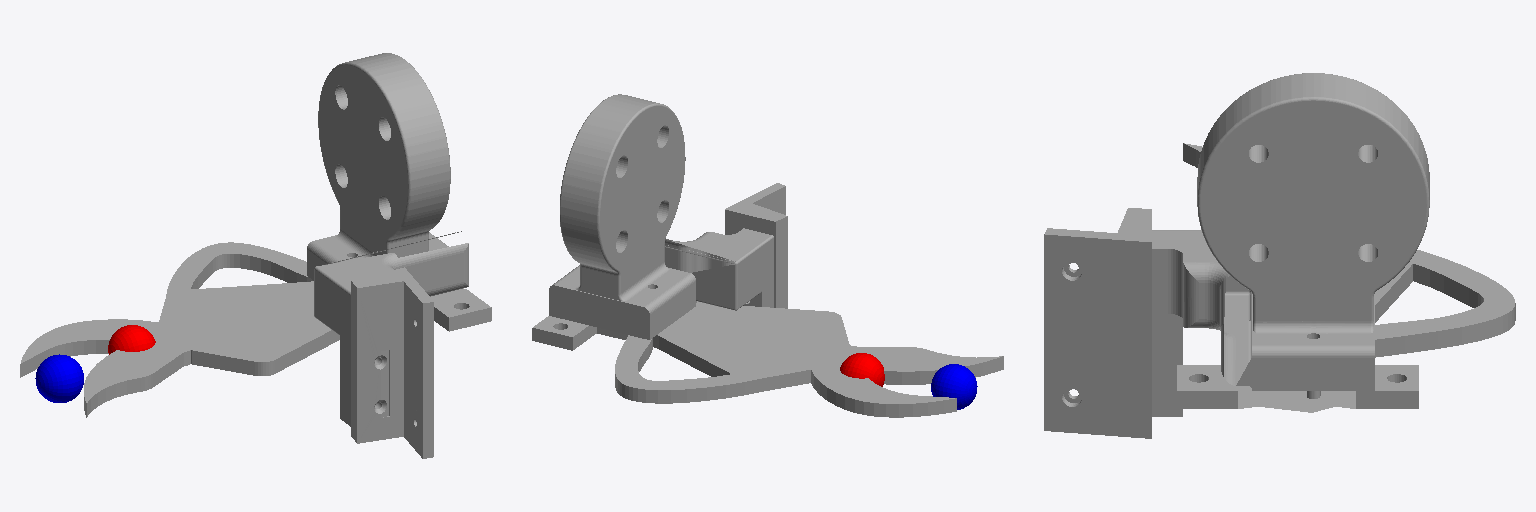
URDF robot description (panda):
<?xml version="1.0" encoding="utf-8"?>
<!-- =================================================================================== -->
<!-- |    This document was autogenerated by xacro from ../../../franka_panda_description/robots/panda_arm.urdf.xacro | -->
<!-- |    EDITING THIS FILE BY HAND IS NOT RECOMMENDED                                 | -->
<!-- =================================================================================== -->
<robot name="panda">
  <link name="world"/>
  <joint name="world_joint" type="fixed">
    <parent link="world"/>
    <child link="mount_base"/>
    <origin rpy="0.0 0.0 1.5708" xyz="0.0 0.0 0.75711"/>
  </joint>
   <link name="mount_base">
      <inertial>
        <origin rpy="0 0 0" xyz="1.0E-08 1.0E-08 1.0E-08"/>
        <mass value="1.0E-08"/>
        <inertia ixx="1.0E-08" ixy="1.0E-08" ixz="1.0E-08" iyy="1.0E-08" iyz="1.0E-08" izz="1.0E-08"/>
      </inertial>
    </link>
  <joint name="y_gantry" type="fixed">
    <parent link="mount_base"/>
    <child link="mount"/>
    <origin rpy="0.0 0.0 0.0" xyz="0.0 0.0 0.0"/>
    <axis xyz="0 1 0"/>
    <limit effort="330.0" lower="-0.25" upper="0.25" velocity="0.2"/>
    <dynamics damping="0.0" friction="0.0"/>
  </joint>
  <link name="mount">
    <visual>
	  <origin rpy="0.0 0.0 0.0" xyz="0 0.0 0.0"/>
      <geometry>
        <mesh filename="meshes/visual/robot_cart.obj"/>
      </geometry>
      <material name="LightGrey">
        <color rgba="0.7 0.7 0.7 1.0"/>
      </material>
      <material name="LightGrey">
        <color rgba="0.7 0.7 0.7 1.0"/>
      </material>
    </visual>
    <collision>
	  <origin rpy="0.0 0.0 0.0" xyz="0 0.0 -0.3786"/>
      <geometry>
        <box size="0.5 0.5 0.75711"/>
      </geometry>
    </collision>
    <inertial>
      <mass value="4.0"/>
      <origin rpy="0 0 0" xyz="0.0 0.0 0.0"/>
      <inertia ixx="0.006106" ixy="0.0" ixz="0.0" iyy="0.006106" iyz="0.0" izz="0.01125"/>
    </inertial>
  </link>
  <joint name="mount_base_joint" type="fixed">
    <parent link="mount"/>
    <child link="panda_link0"/>
    <origin rpy="0.0 0.0 -1.5708" xyz="0.0 0.0 0.0"/>
    <axis xyz="0 0 1"/>
  </joint>
  <link name="panda_link0">
    <visual>
      <geometry>
        <mesh filename="meshes/visual/link0.dae"/>
      </geometry>
      <material name="panda_gray"/>
    </visual>
    <collision>
      <geometry>
        <mesh filename="meshes/collision/link0.stl"/>
      </geometry>
    </collision>
  </link>
  <link name="panda_link1">
    <visual>
      <geometry>
        <mesh filename="meshes/visual/link1.dae"/>
      </geometry>
    </visual>
    <collision>
      <geometry>
        <mesh filename="meshes/collision/link1.stl"/>
      </geometry>
    </collision>
    <inertial>
      <origin rpy="0 0 0" xyz="3.875e-03 2.081e-03 -0.1750"/>
      <mass value="4.970684"/>
      <inertia ixx="7.0337e-01" ixy="-1.3900e-04" ixz="6.7720e-03" iyy="7.0661e-01" iyz="1.9169e-02" izz="9.1170e-03"/>
    </inertial>
  </link>
  <joint name="panda_joint1" type="revolute">
    <safety_controller k_position="100.0" k_velocity="40.0" soft_lower_limit="-2.8973" soft_upper_limit="2.8973"/>
    <origin rpy="0 0 0" xyz="0 0 0.333"/>
    <parent link="panda_link0"/>
    <child link="panda_link1"/>
    <axis xyz="0 0 1"/>
    <limit effort="87" lower="-2.8973" upper="2.8973" velocity="2.1750"/>
    <dynamics damping="10.0" friction="5.0"/>
  </joint>
  <link name="panda_link2">
    <visual>
      <geometry>
        <mesh filename="meshes/visual/link2.dae"/>
      </geometry>
    </visual>
    <collision>
      <geometry>
        <mesh filename="meshes/collision/link2.stl"/>
      </geometry>
    </collision>
    <inertial>
      <origin rpy="0 0 0" xyz="-3.141e-03 -2.872e-02 3.495e-03"/>
      <mass value="0.646926"/>
      <inertia ixx="7.9620e-03" ixy="-3.9250e-03" ixz="1.0254e-02" iyy="2.8110e-02" iyz="7.0400e-04" izz="2.5995e-02"/>
    </inertial>
  </link>
  <joint name="panda_joint2" type="revolute">
    <safety_controller k_position="100.0" k_velocity="40.0" soft_lower_limit="-1.7628" soft_upper_limit="1.7628"/>
    <origin rpy="-1.57079632679 0 0" xyz="0 0 0"/>
    <parent link="panda_link1"/>
    <child link="panda_link2"/>
    <axis xyz="0 0 1"/>
    <limit effort="87" lower="-1.7628" upper="1.7628" velocity="2.1750"/>
    <dynamics damping="5.0" friction="2.0"/>
  </joint>
  <link name="panda_link3">
    <visual>
      <geometry>
        <mesh filename="meshes/visual/link3.dae"/>
      </geometry>
    </visual>
    <collision>
      <geometry>
        <mesh filename="meshes/collision/link3.stl"/>
      </geometry>
    </collision>
    <inertial>
      <origin rpy="0 0 0" xyz="2.7518e-02 3.9252e-02 -6.6502e-02"/>
      <mass value="3.228604"/>
      <inertia ixx="3.7242e-02" ixy="-4.7610e-03" ixz="-1.1396e-02" iyy="3.6155e-02" iyz="-1.2805e-02" izz="1.0830e-02"/>
    </inertial>
  </link>
  <joint name="panda_joint3" type="revolute">
    <safety_controller k_position="100.0" k_velocity="40.0" soft_lower_limit="-2.8973" soft_upper_limit="2.8973"/>
    <origin rpy="1.57079632679 0 0" xyz="0 -0.316 0"/>
    <parent link="panda_link2"/>
    <child link="panda_link3"/>
    <axis xyz="0 0 1"/>
    <limit effort="87" lower="-2.8973" upper="2.8973" velocity="2.1750"/>
    <dynamics damping="5.0" friction="2.0"/>
  </joint>
  <link name="panda_link4">
    <visual>
      <geometry>
        <mesh filename="meshes/visual/link4.dae"/>
      </geometry>
    </visual>
    <collision>
      <geometry>
        <mesh filename="meshes/collision/link4.stl"/>
      </geometry>
    </collision>
    <inertial>
      <origin rpy="0 0 0" xyz="-5.317e-02 1.04419e-01 2.7454e-02"/>
      <mass value="3.587895"/>
      <inertia ixx="2.5853e-02" ixy="7.7960e-03" ixz="-1.3320e-03" iyy="1.9552e-02" iyz="8.6410e-03" izz="2.8323e-02"/>
    </inertial>
  </link>
  <joint name="panda_joint4" type="revolute">
    <safety_controller k_position="100.0" k_velocity="40.0" soft_lower_limit="-3.0718" soft_upper_limit="-0.0698"/>
    <origin rpy="1.57079632679 0 0" xyz="0.0825 0 0"/>
    <parent link="panda_link3"/>
    <child link="panda_link4"/>
    <axis xyz="0 0 1"/>
    <limit effort="87" lower="-3.0718" upper="-0.0698" velocity="2.1750"/>
    <dynamics damping="1.0" friction="0.5"/>
  </joint>
  <link name="panda_link5">
    <visual>
      <geometry>
        <mesh filename="meshes/visual/link5.dae"/>
      </geometry>
    </visual>
    <collision>
      <geometry>
        <mesh filename="meshes/collision/link5.stl"/>
      </geometry>
    </collision>
    <inertial>
      <origin rpy="0 0 0" xyz="-1.1953e-02 4.1065e-02 -3.8437e-02"/>
      <mass value="1.225946"/>
      <inertia ixx="3.5549e-02" ixy="-2.1170e-03" ixz="-4.0370e-03" iyy="2.9474e-02" iyz="2.2900e-04" izz="8.6270e-03"/>
    </inertial>
  </link>
  <joint name="panda_joint5" type="revolute">
    <safety_controller k_position="100.0" k_velocity="40.0" soft_lower_limit="-2.8973" soft_upper_limit="2.8973"/>
    <origin rpy="-1.57079632679 0 0" xyz="-0.0825 0.384 0"/>
    <parent link="panda_link4"/>
    <child link="panda_link5"/>
    <axis xyz="0 0 1"/>
    <limit effort="12" lower="-2.8973" upper="2.8973" velocity="2.6100"/>
    <dynamics damping="2.0" friction="1.0"/>
  </joint>
  <link name="panda_link6">
    <visual>
      <geometry>
        <mesh filename="meshes/visual/link6.dae"/>
      </geometry>
    </visual>
    <collision>
      <geometry>
        <mesh filename="meshes/collision/link6.stl"/>
      </geometry>
    </collision>
    <inertial>
      <origin rpy="0 0 0" xyz="6.0149e-02 -1.4117e-02 -1.0517e-02"/>
      <mass value="1.666555"/>
      <inertia ixx="1.9640e-03" ixy="1.0900e-04" ixz="-1.1580e-03" iyy="4.3540e-03" iyz="3.4100e-04" izz="5.4330e-03"/>
    </inertial>
  </link>
  <joint name="panda_joint6" type="revolute">
    <safety_controller k_position="100.0" k_velocity="40.0" soft_lower_limit="-0.0175" soft_upper_limit="3.7525"/>
    <origin rpy="1.57079632679 0 0" xyz="0 0 0"/>
    <parent link="panda_link5"/>
    <child link="panda_link6"/>
    <axis xyz="0 0 1"/>
    <limit effort="12" lower="-0.0175" upper="3.7525" velocity="2.6100"/>
    <dynamics damping="1.0" friction="0.5"/>
  </joint>
  <link name="panda_link7">
    <visual>
      <geometry>
        <mesh filename="meshes/visual/link7.dae"/>
      </geometry>
      <material name="panda_gray"/>
    </visual>
    <collision>
      <geometry>
        <mesh filename="meshes/collision/link7.stl"/>
      </geometry>
    </collision>
    <inertial>
      <origin rpy="0 0 0" xyz="1.0517e-02 -4.252e-03 6.1597e-02"/>
      <mass value="7.35522e-01"/>
      <inertia ixx="1.2516e-02" ixy="-4.2800e-04" ixz="-1.1960e-03" iyy="1.0027e-02" iyz="-7.4100e-04" izz="4.8150e-03"/>
    </inertial>
  </link>
  <joint name="panda_joint7" type="revolute">
    <safety_controller k_position="100.0" k_velocity="40.0" soft_lower_limit="-2.8973" soft_upper_limit="2.8973"/>
    <origin rpy="1.57079632679 0 0" xyz="0.088 0 0"/>
    <parent link="panda_link6"/>
    <child link="panda_link7"/>
    <axis xyz="0 0 1"/>
    <limit effort="12" lower="-2.8973" upper="2.8973" velocity="2.6100"/>
    <dynamics damping="1.0" friction="0.5"/>
  </joint>
  <link name="panda_link8">
    <inertial>
      <origin rpy="0 0 0" xyz="0 0 0"/>
      <mass value="0.0"/>
      <inertia ixx="0.001" ixy="0.0" ixz="0.0" iyy="0.001" iyz="0.0" izz="0.001"/>
    </inertial>
  </link>
  <joint name="panda_joint8" type="fixed">
    <origin rpy="0 0 0" xyz="0 0 0.107"/>
    <parent link="panda_link7"/>
    <child link="panda_link8"/>
    <axis xyz="0 0 0"/>
  </joint>

  <link name="cutter">
    <visual>
      <origin rpy="0 0 0" xyz="0 0 0.0"/>
      <geometry>
        <mesh filename="meshes/visual/cutter_top_mount_for_rotation.obj" scale="1.0 1.0 1.0 "/>
      </geometry>
      <material name="LightGrey" />
    </visual>

     <collision>
      <origin rpy="0 0 0" xyz="0 0 0"/>
      <geometry>
        <mesh filename="meshes/collision/cutter_top_mount_for_rotation.obj" scale="1.0 1.0 1.0"/>
      </geometry>
    </collision>

    <inertial>
      <origin rpy="0 0 0" xyz="1.0E-08 1.0E-08 1.0E-08"/>
      <mass value="1.0E-08"/>
      <inertia ixx="1.0E-08" ixy="1.0E-08" ixz="1.0E-08" iyy="1.0E-08" iyz="1.0E-08" izz="1.0E-08"/>
    </inertial>
  </link>
  <joint name="cutter" type="fixed">
      <origin rpy="0 0 0" xyz="0 0 0"/>
    <axis xyz="0 0 1"/>
    <parent link="panda_link8"/>
    <child link="cutter"/>
  </joint>
  <link name="endpoint">
    <visual>
      <origin rpy="0 0 0" xyz="0 0 0"/>
      <geometry>
        <sphere radius="0.01" />
      </geometry>
      <material name="red">
        <color rgba="1 0 0 0" />
      </material>
    </visual>

    <inertial>
      <origin rpy="0 0 0" xyz="1.0E-08 1.0E-08 1.0E-08"/>
      <mass value="1.0E-08"/>
      <inertia ixx="1.0E-08" ixy="1.0E-08" ixz="1.0E-08" iyy="1.0E-08" iyz="1.0E-08" izz="1.0E-08"/>
    </inertial>
  </link>
  <joint name="endpoint" type="fixed">
<!--    <origin rpy="0 0 0" xyz="0 0.09721 0.24210"/>  &lt;!&ndash; Left down out &ndash;&gt;-->
<!--    <origin rpy="0 0 0" xyz="-0.00425 0.08971 0.24210"/> &lt;!&ndash;USE THIS ONE IF THE IK FOR BELOW DOESNT DO BETTER&ndash;&gt;-->
<!--    <origin rpy="0 0 0" xyz="-0.063175 0 0.12864"/>-->
    <origin rpy="0 0 0" xyz="0.063175 0 0.12864"/>
<!--    <origin rpy="0 0 3.14159" xyz="-0.09425 -0.00511 0.09707"/>-->

    <axis xyz="0 0 1"/>
    <parent link="cutter"/>
    <child link="endpoint"/>
  </joint>
  <link name="cutpoint">
    <visual>
      <origin rpy="0 0 0" xyz="0.0 0.0 0.0"/>

      <geometry>
        <sphere radius="0.01" />
      </geometry>
      <material name="blue">
        <color rgba="0 0 1 0" />
      </material>
    </visual>
    <inertial>
      <origin rpy="0 0 0" xyz="1.0E-08 1.0E-08 1.0E-08"/>
      <mass value="1.0E-08"/>
      <inertia ixx="1.0E-08" ixy="1.0E-08" ixz="1.0E-08" iyy="1.0E-08" iyz="1.0E-08" izz="1.0E-08"/>
    </inertial>
  </link>
  <joint name="cutpoint" type="fixed">
<!-- <origin rpy="0 0 0" xyz="-0.06325 0.01 0.18"/>-->

   <origin rpy="0 0 0" xyz="0 0.01 0.04"/>
  <parent link="endpoint"/>
    <child link="cutpoint"/>
  </joint>
  <link name="cutter_mouth">
    <visual>
      <origin rpy="0 0 0" xyz="0.0 0.0 0.0"/>
      <geometry>
        <mesh filename="meshes/collision/cutter-mouth-collision.stl"/>
      </geometry>
      <material name="green">
        <color rgba="0 1 0 0" />
      </material>
    </visual>
    <inertial>
      <origin rpy="0 0 0" xyz="1.0E-08 1.0E-08 1.0E-08"/>
      <mass value="1.0E-08"/>
      <inertia ixx="1.0E-08" ixy="1.0E-08" ixz="1.0E-08" iyy="1.0E-08" iyz="1.0E-08" izz="1.0E-08"/>
    </inertial>
    <collision>
        <origin rpy="0 0 0" xyz="0.0 0.0 0.0"/>
        <geometry>
            <mesh filename="meshes/collision/cutter-mouth-collision.stl"/>
        </geometry>
    </collision>
  </link>
  <joint name="cutter_mouth" type="fixed">
    <origin rpy="0 0 0" xyz="0 0 0"/>  <!-- Left down out -->
    <parent link="endpoint"/>
    <child link="cutter_mouth"/>
  </joint>

</robot>

--- Facts derived from the render (not from the file) ---
The picture shows the robot from 3 angles, left to right: view 1: azimuth 30°, elevation 25°; view 2: azimuth 150°, elevation 25°; view 3: azimuth 270°, elevation 25°; orthographic projection.
Model panda with 16 links and 15 joints (7 revolute, 8 fixed), rooted at world, posed joints at zero except 1 at the middle of their limits (panda_joint4 = -1.57).
Visible links, largest first — view 1: cutter, cutpoint, endpoint; view 2: cutter, cutpoint, endpoint; view 3: cutter.
Boxes of the visible links, <box> form: cutter: <box>20,53,491,458</box>; cutpoint: <box>35,354,83,402</box>; endpoint: <box>108,325,155,354</box>; cutter: <box>532,94,1003,417</box>; cutpoint: <box>931,364,977,409</box>; endpoint: <box>840,353,884,386</box>; cutter: <box>1044,73,1515,438</box>.
Bounding box of the posed robot: 0.1986 × 0.1521 × 0.1357 m (x, y, z).
1 mesh visuals loaded from 11 distinct referenced files (1 OBJ); not drawn: 10 (reference not matched to a file when rendering).